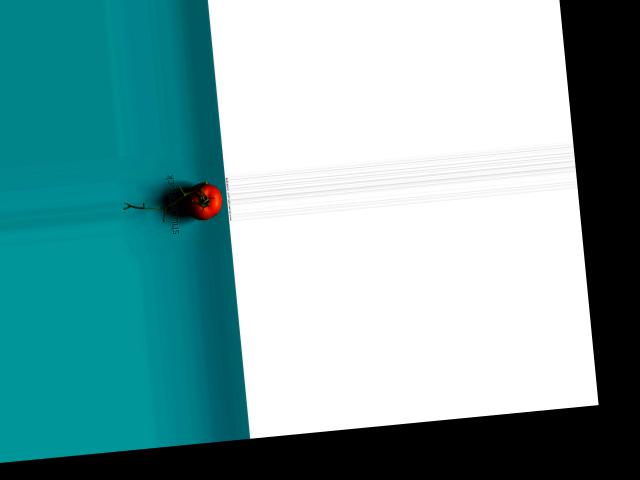tomato: (183, 180, 223, 221)
